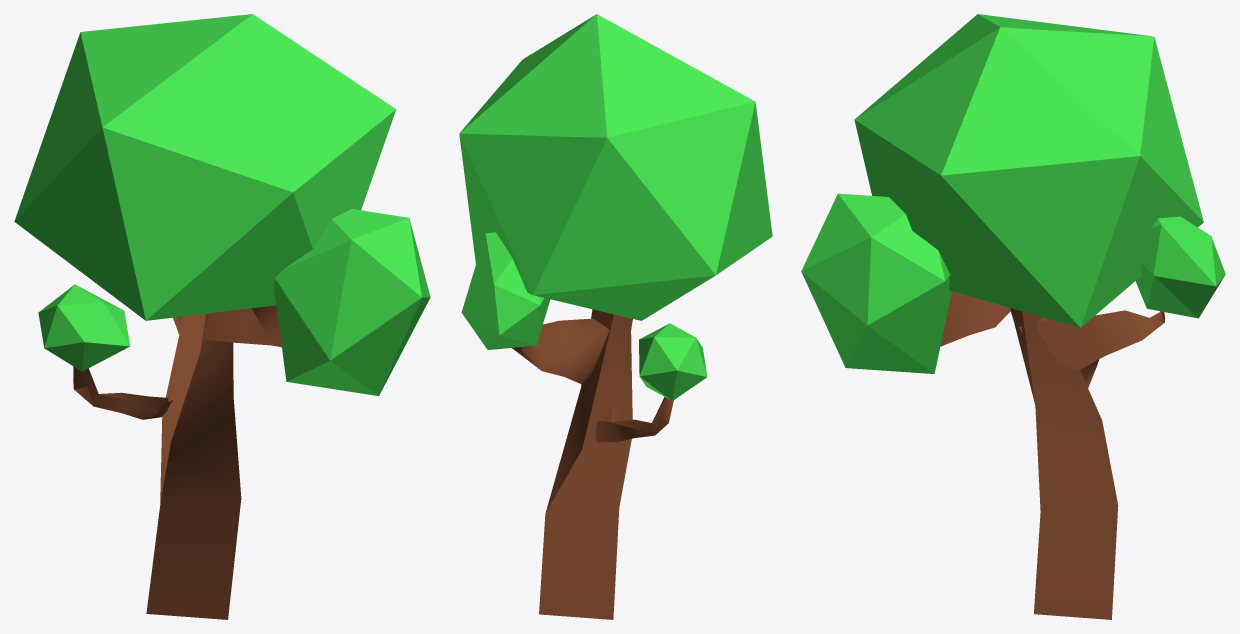
File: tree4.obj
The picture shows the model from 3 angles, left to right: view 1: azimuth 30°, elevation 25°; view 2: azimuth 150°, elevation 25°; view 3: azimuth 270°, elevation 25°; orthographic projection. The views are drawn at different scales.
Visible parts, largest first — view 1: Platonic.3, Cylinder.4, Platonic.4, Platonic.2; view 2: Platonic.3, Cylinder.4, Platonic.1, Platonic.2; view 3: Platonic.3, Cylinder.4, Platonic.4, Platonic.1.
Boxes of the visible parts, box(x1,y1,x2,y2) form: Platonic.3: box(14, 14, 396, 320); Cylinder.4: box(73, 305, 281, 619); Platonic.4: box(274, 209, 430, 396); Platonic.2: box(38, 284, 130, 371); Platonic.3: box(459, 14, 772, 320); Cylinder.4: box(512, 309, 673, 619); Platonic.1: box(461, 232, 550, 349); Platonic.2: box(639, 323, 707, 400); Platonic.3: box(854, 14, 1203, 327); Cylinder.4: box(940, 291, 1165, 619); Platonic.4: box(801, 193, 951, 373); Platonic.1: box(1135, 216, 1225, 318).
Bounding box in the file's own units: 4.1 × 8.13 × 5.3.
Materials: 2 (2 with a texture image).
